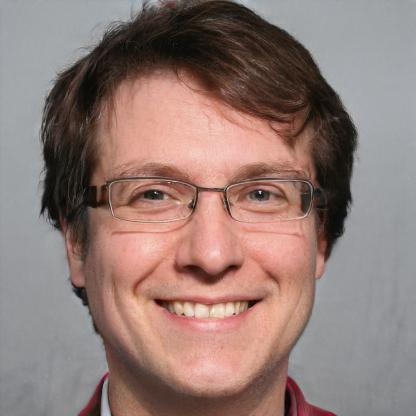glasses: (96, 169, 319, 235)
